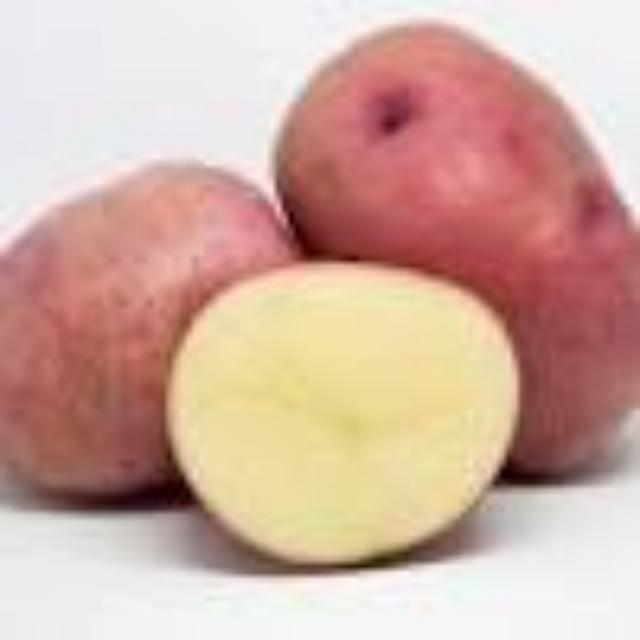Defected potato: (264, 14, 640, 488), (1, 155, 323, 515)
